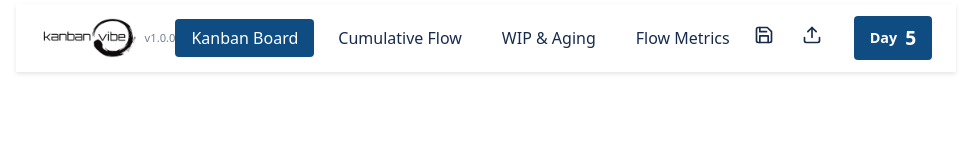
it: NavigationBar Component › shows save dropdown when save button is clicked
The image size is (973, 160).
Expected: the text "Save Context" is not shown
Click the button named "Save options". click: (764, 38)
box: [746, 18, 782, 58]
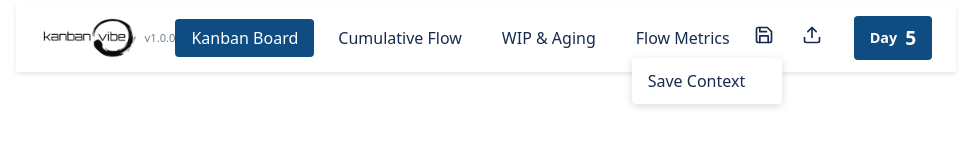
Expected: the button "Save Context" is shown, [632, 58, 782, 104]
